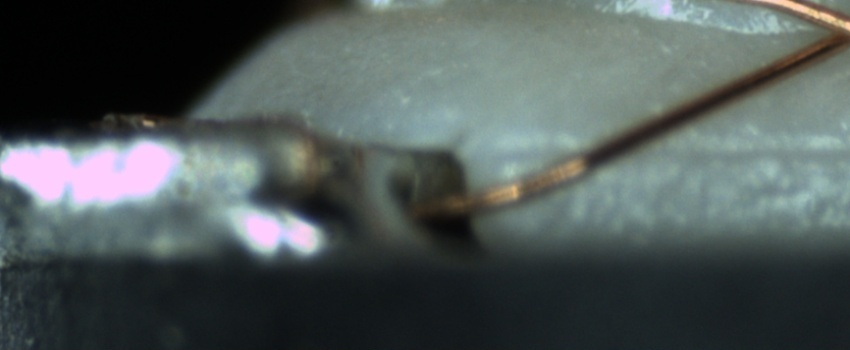CL: (773, 0, 850, 67)
DL: (621, 118, 849, 182)
TE: (291, 115, 371, 205)
